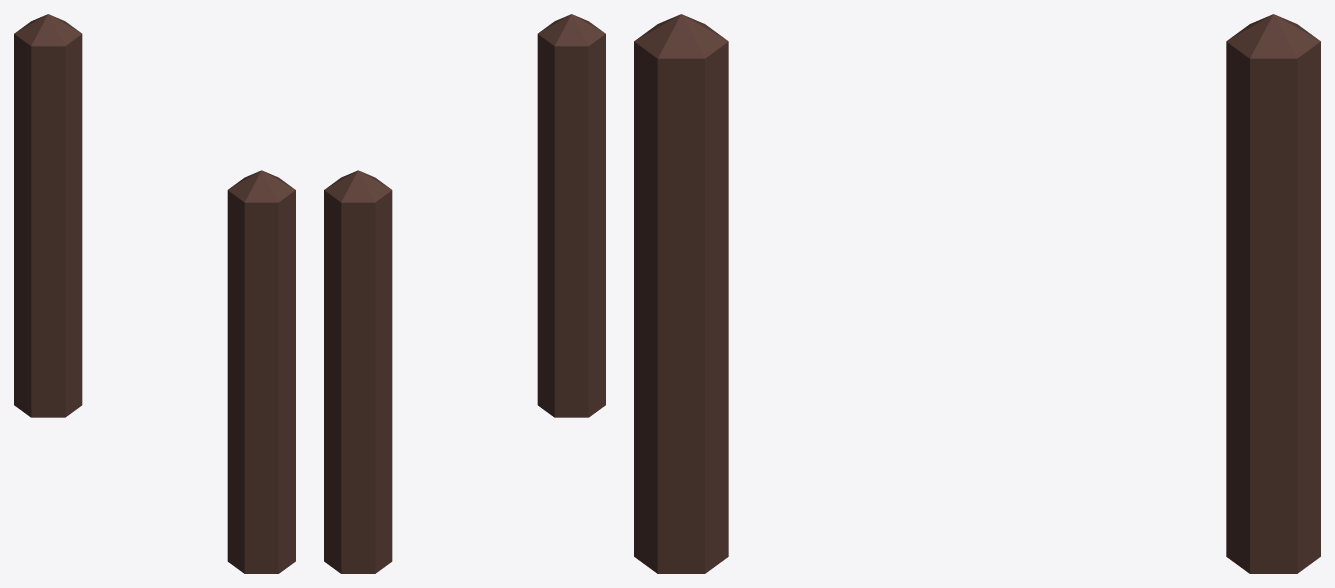
Rendered from GreenForest_Border01.fbx.
3 views of the same model, side by side, from view 1: azimuth 30°, elevation 25°; view 2: azimuth 150°, elevation 25°; view 3: azimuth 270°, elevation 25° (orthographic). The views are drawn at different scales.
Visible parts, largest first — view 1: GreenForest_Border01; view 2: GreenForest_Border01; view 3: GreenForest_Border01.
Part boxes in pixels (x1,y1,x2,y2): GreenForest_Border01: (14,14,295,573); GreenForest_Border01: (324,14,605,573); GreenForest_Border01: (634,14,1320,573).
Bounding box in the file's own units: 0.1732 × 1.26 × 1.45.
